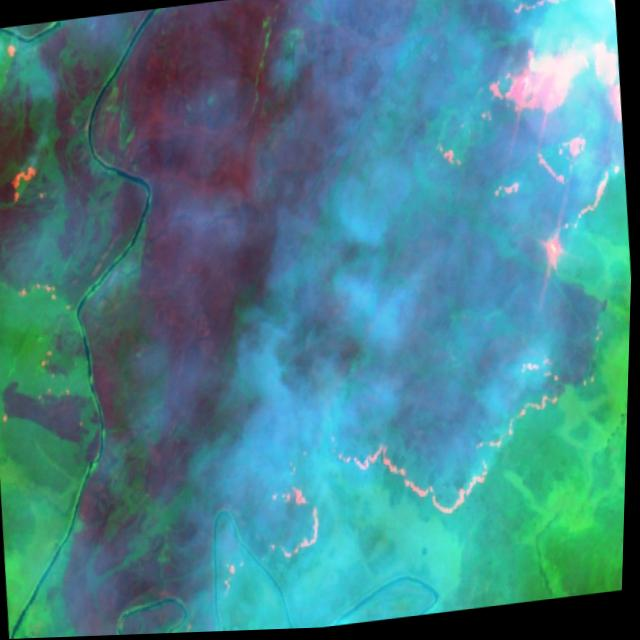fire: (416, 0, 638, 297), (326, 350, 573, 537), (260, 478, 331, 569), (3, 154, 56, 222), (0, 35, 25, 109)
